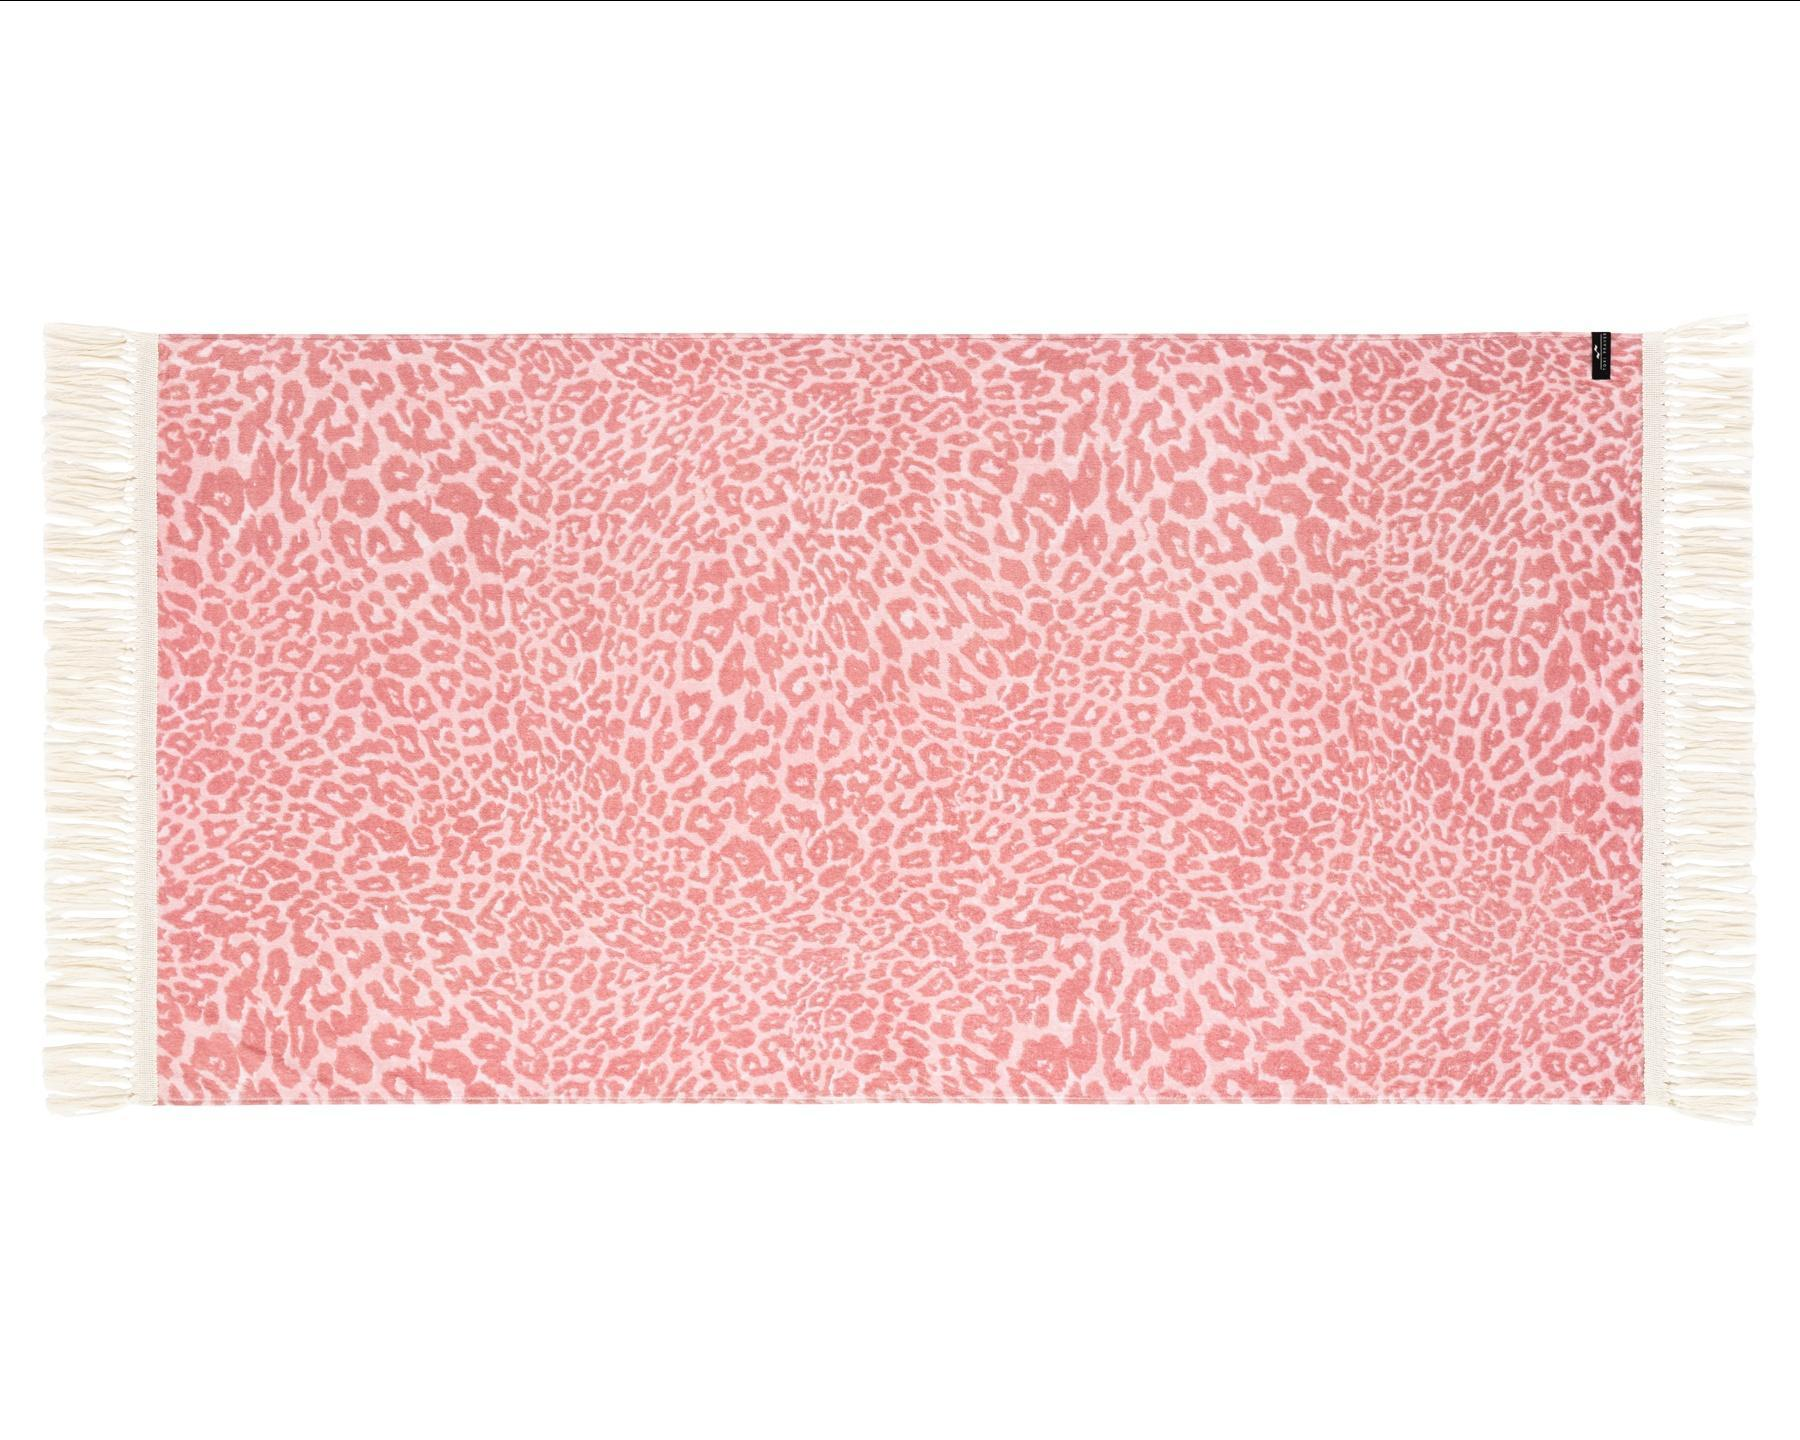towel: (113, 273, 1690, 1170)
